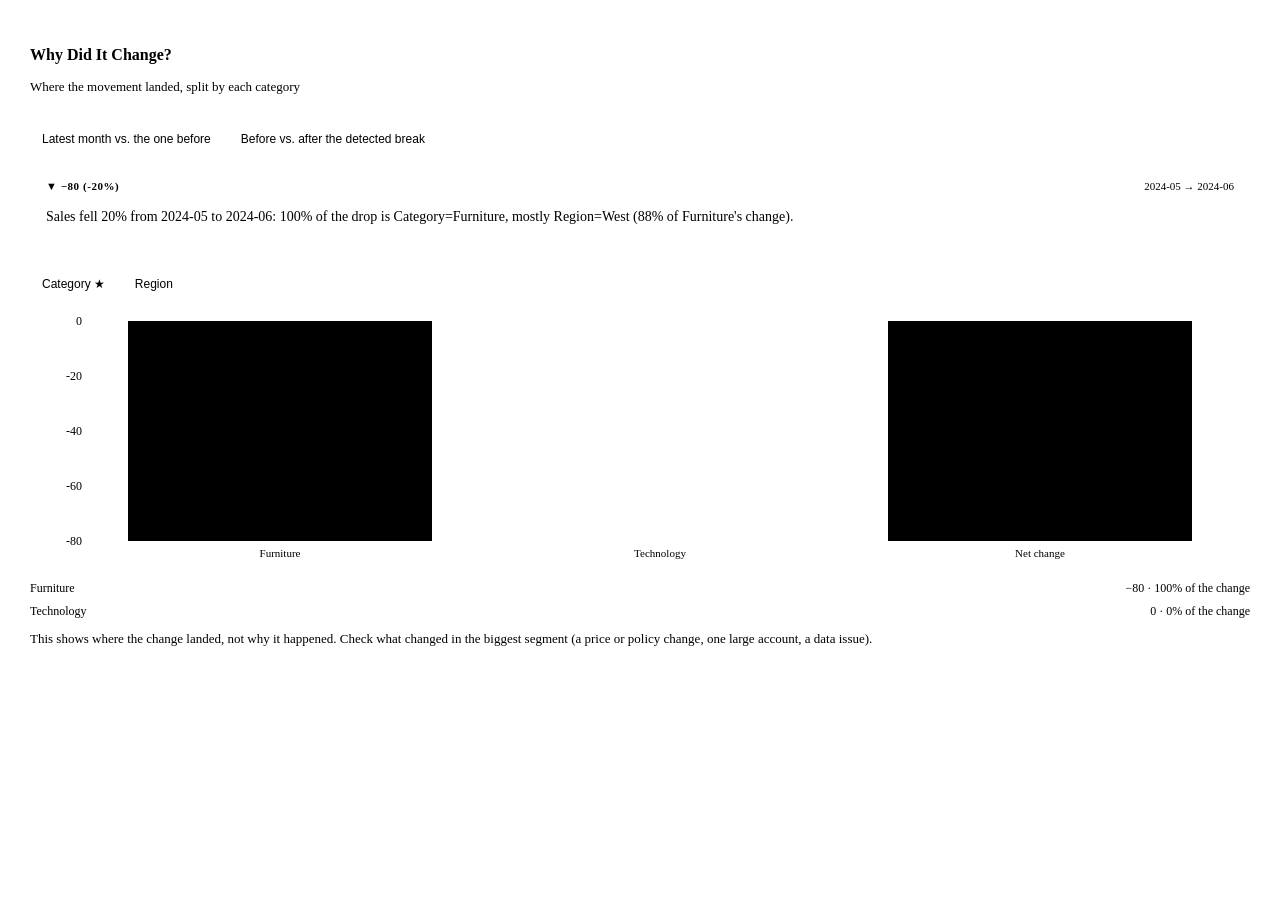
Test: DriversPanel › switching comparison resets to that comparison's own dimensions and shows the seasonal caveat only for the break
Check: the text "seasonally adjusted series" is not shown
Click the tab "Before vs. after the detected break": (333, 138) top-left (229, 126), bottom-right (437, 152)
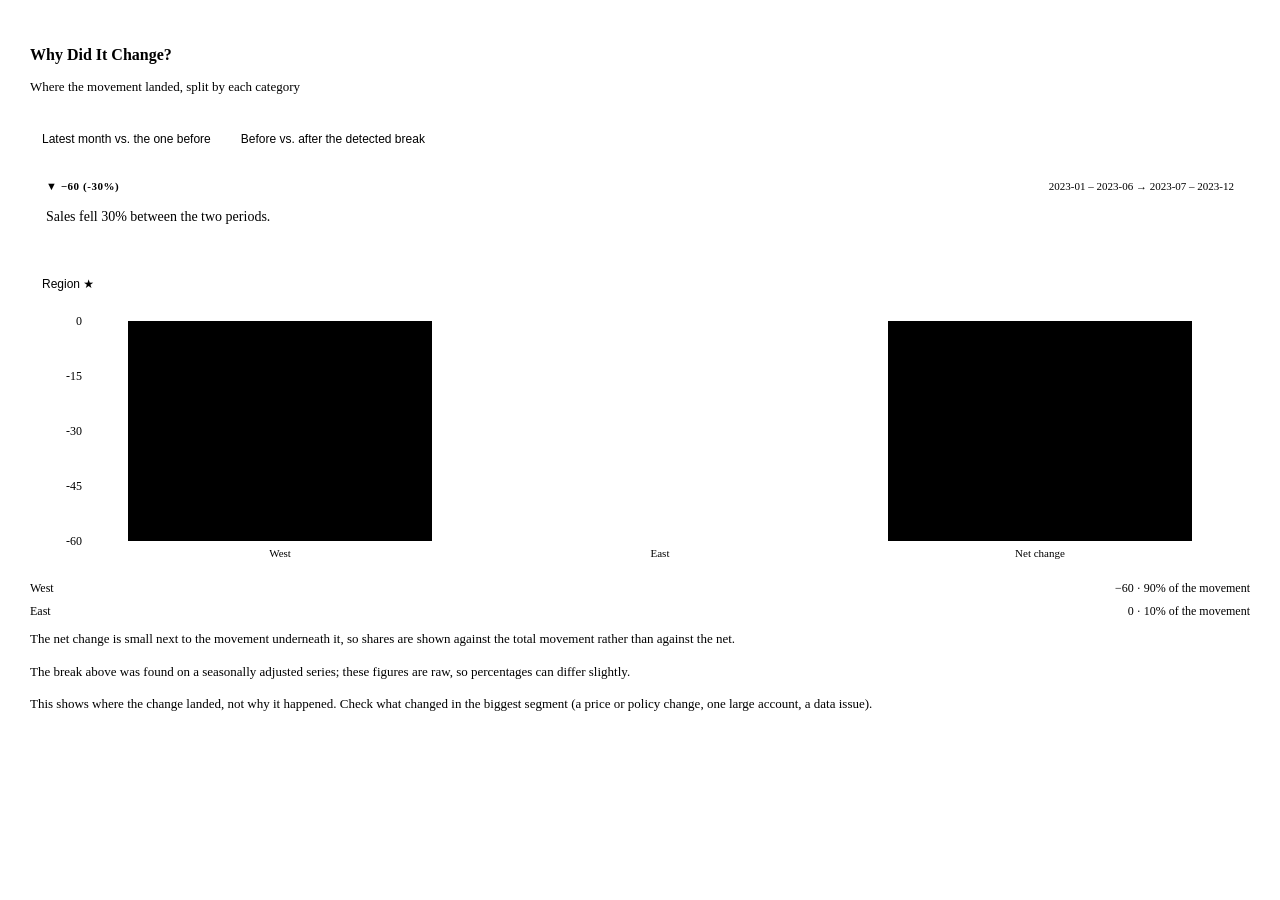
Check: the text "Sales fell 30% between the two periods." is shown, box top-left (46, 208), bottom-right (270, 224)
Check: the text "seasonally adjusted series" is shown, box top-left (30, 664), bottom-right (630, 679)
